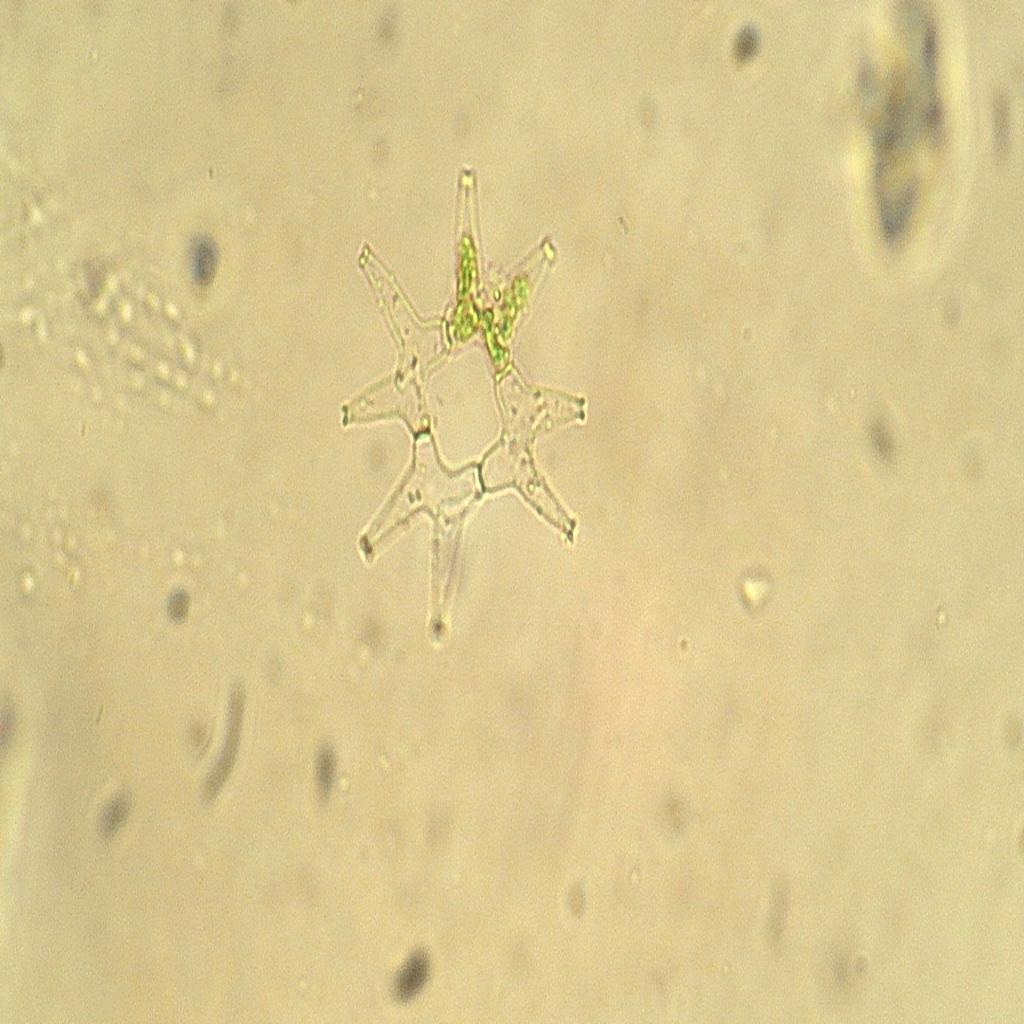Pediastrum_75TH: (320, 140, 608, 670)
